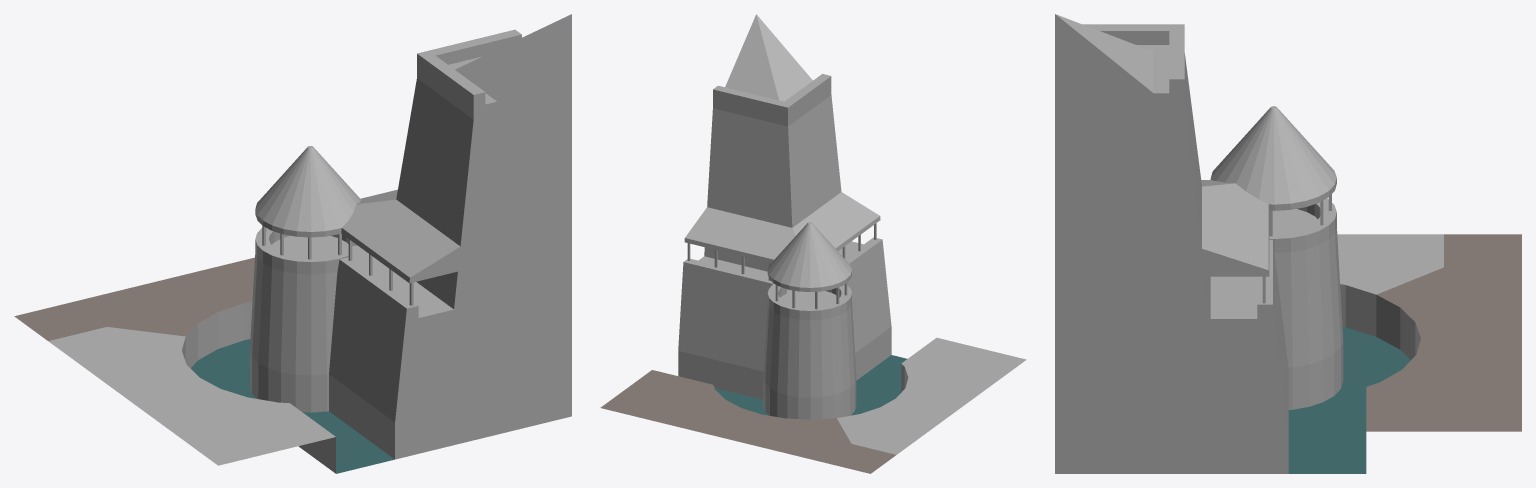
Rendered from rrcw.obj.
The picture shows the model from 3 angles, left to right: view 1: azimuth 30°, elevation 25°; view 2: azimuth 150°, elevation 25°; view 3: azimuth 270°, elevation 25°; orthographic projection. The views are drawn at different scales.
Visible parts, largest first — view 1: rrcw; view 2: rrcw; view 3: rrcw.
Boxes of the visible parts, box(x1,y1,x2,y2) form: rrcw: box(14, 14, 571, 473); rrcw: box(600, 14, 1026, 473); rrcw: box(1055, 14, 1521, 473).
Bounding box in the file's own units: 30 × 32.63 × 30.
